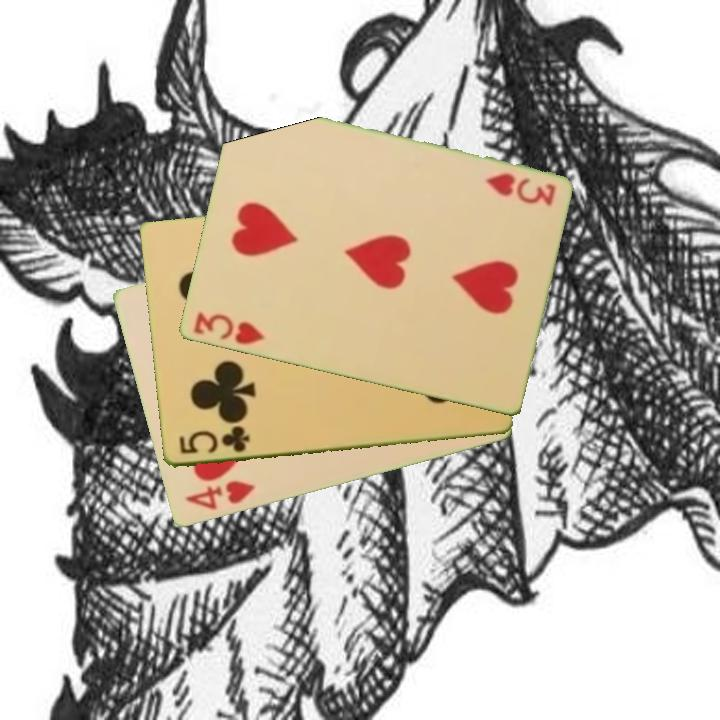3h: (189, 308, 267, 348), (481, 170, 558, 209)
4h: (181, 477, 257, 514)
5c: (175, 423, 253, 458)
